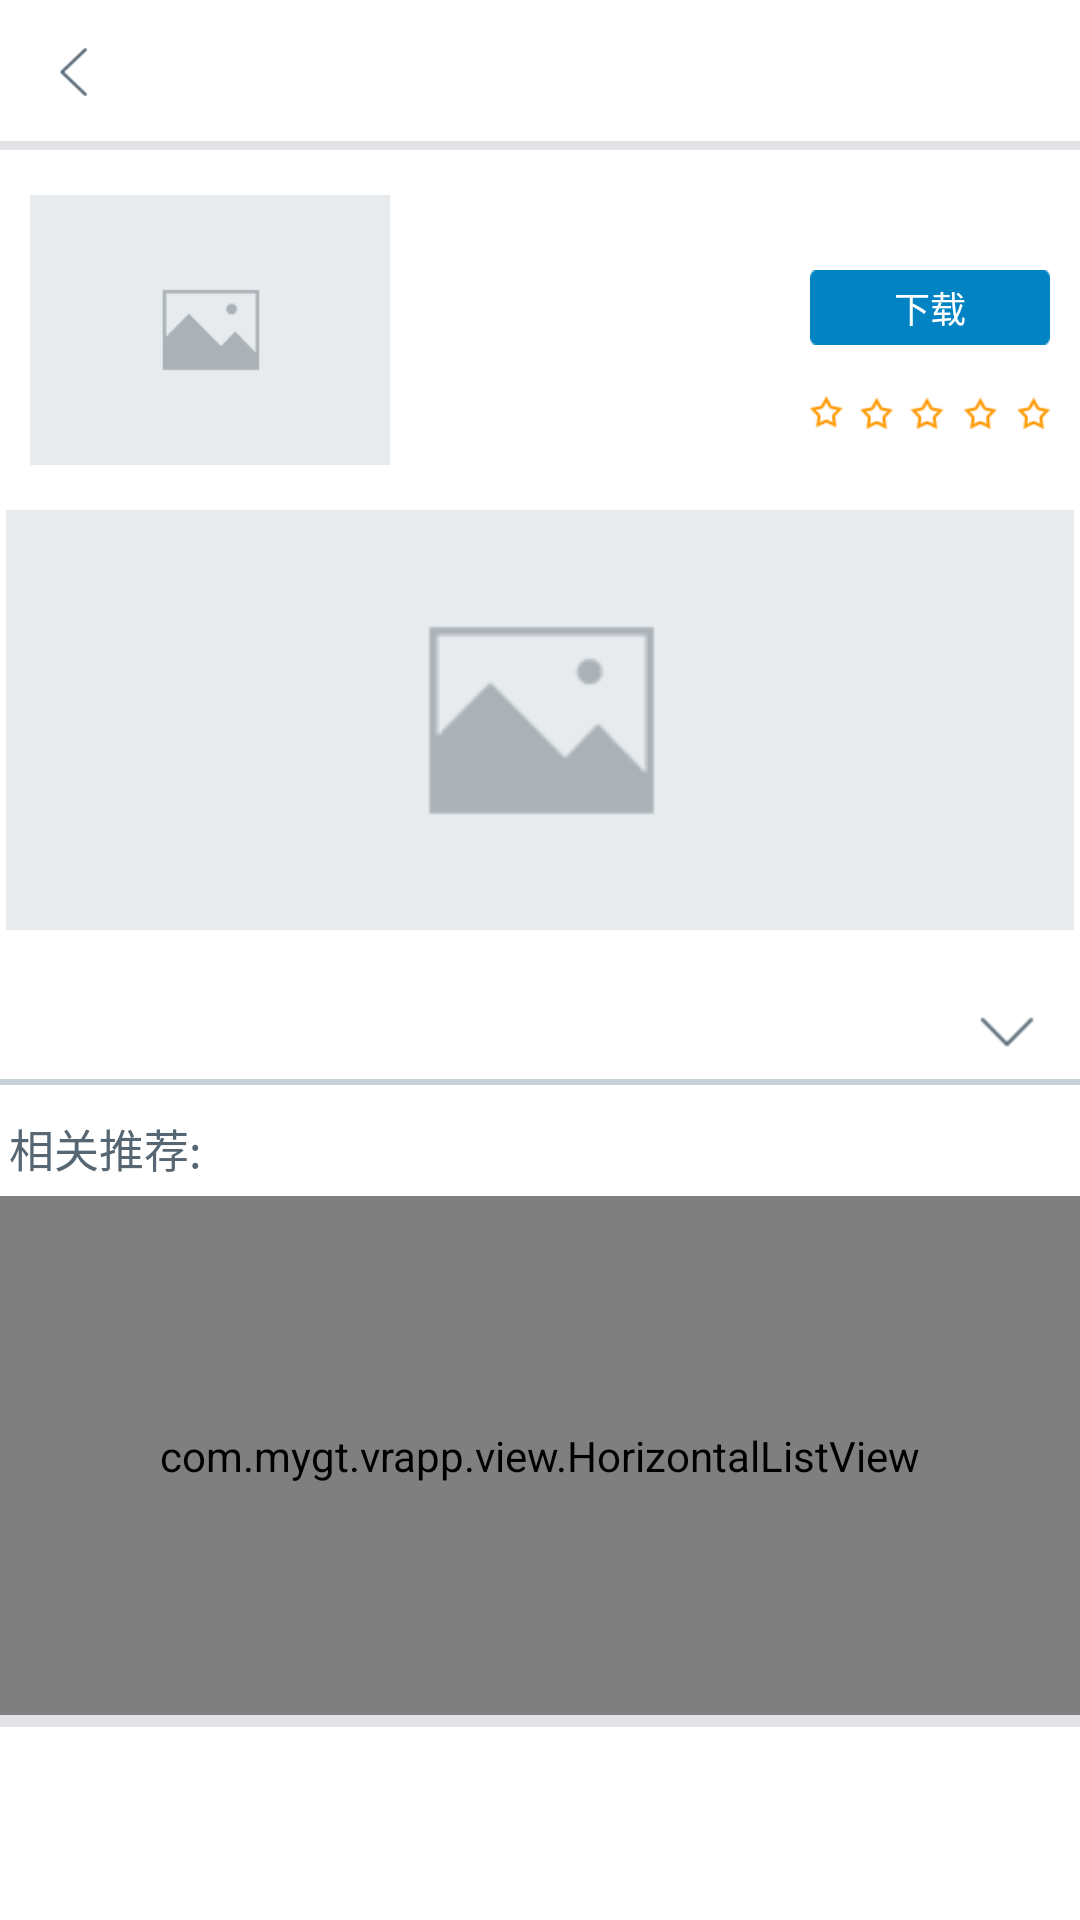

Icon bounding boxes for this 1080 x 1920 phone screenshot, format (x1, y1, x2, y2):
back: (60, 48, 87, 96)
